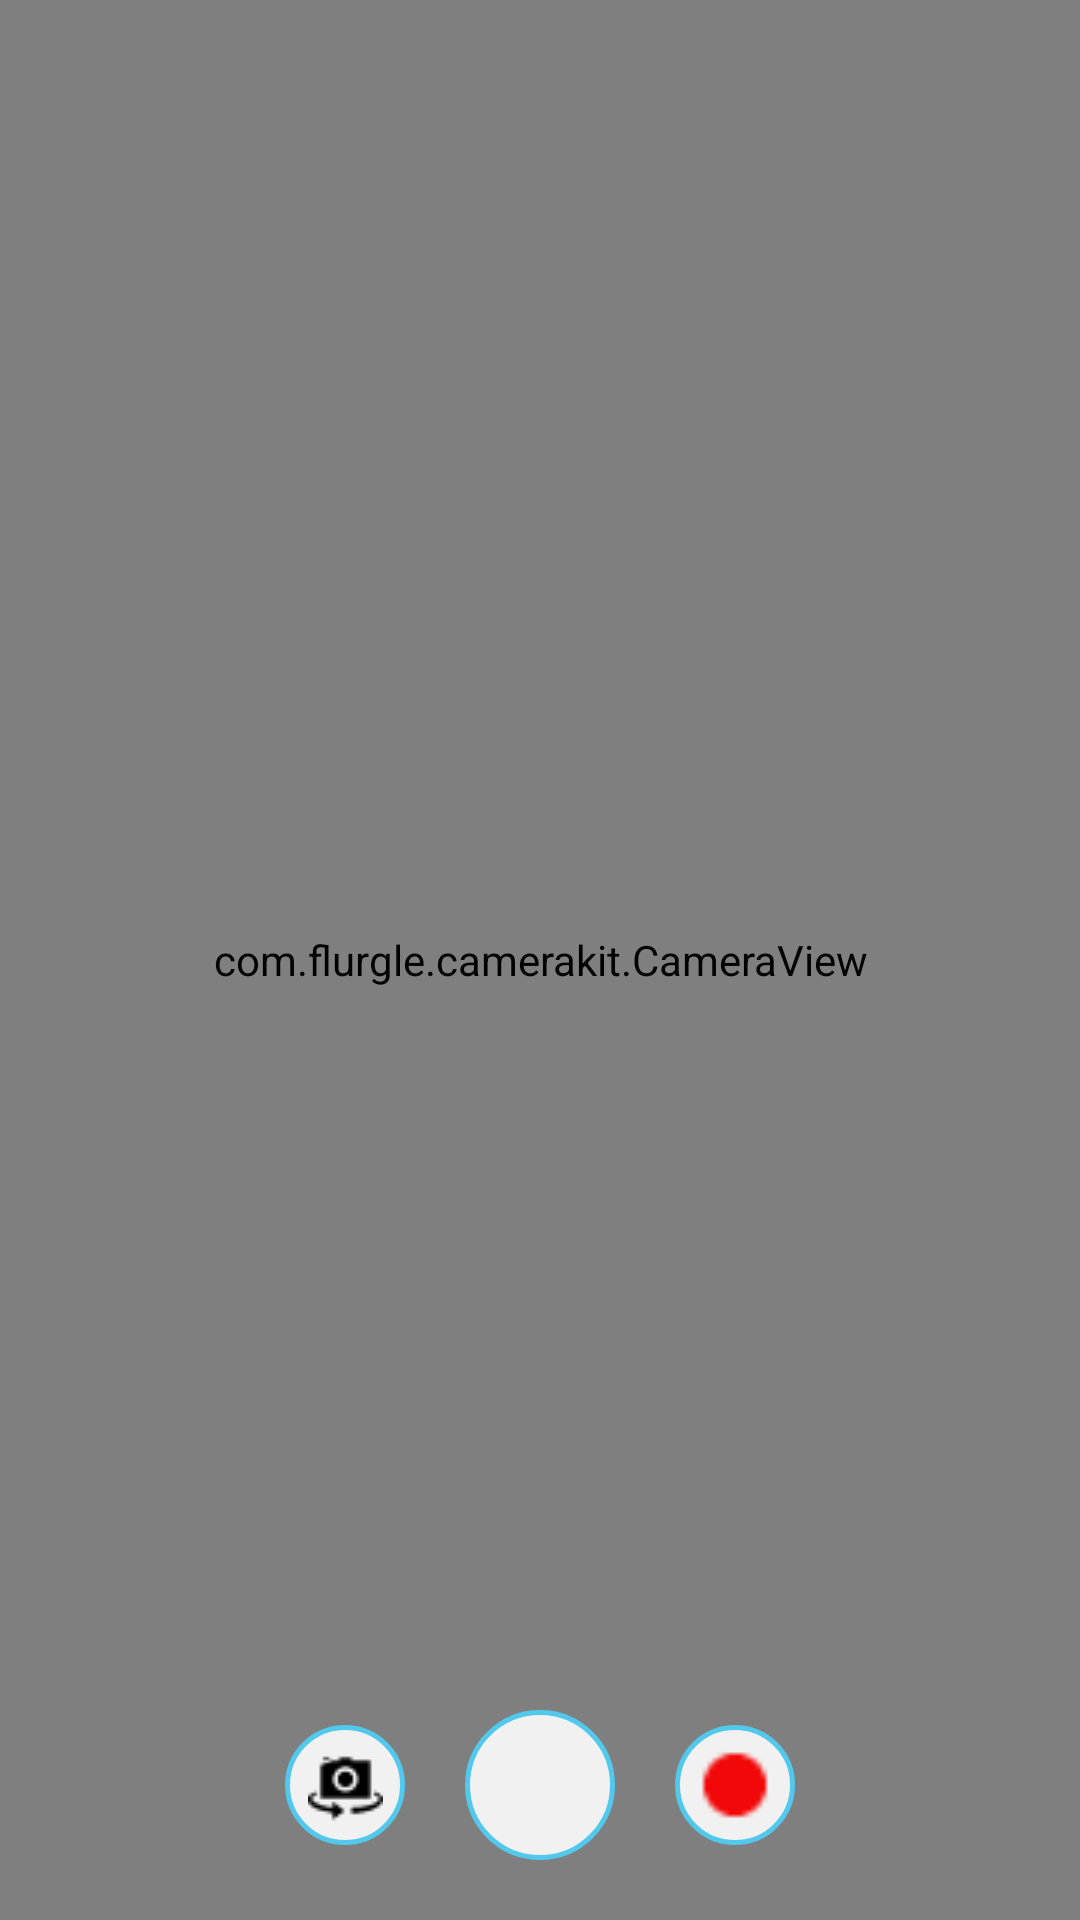

Named icons in this screenshot (1080*1920) and their bounding boxes, (x1, y1, x2, y2):
record: (675, 1725, 795, 1845)
switch camera: (285, 1725, 405, 1845)
